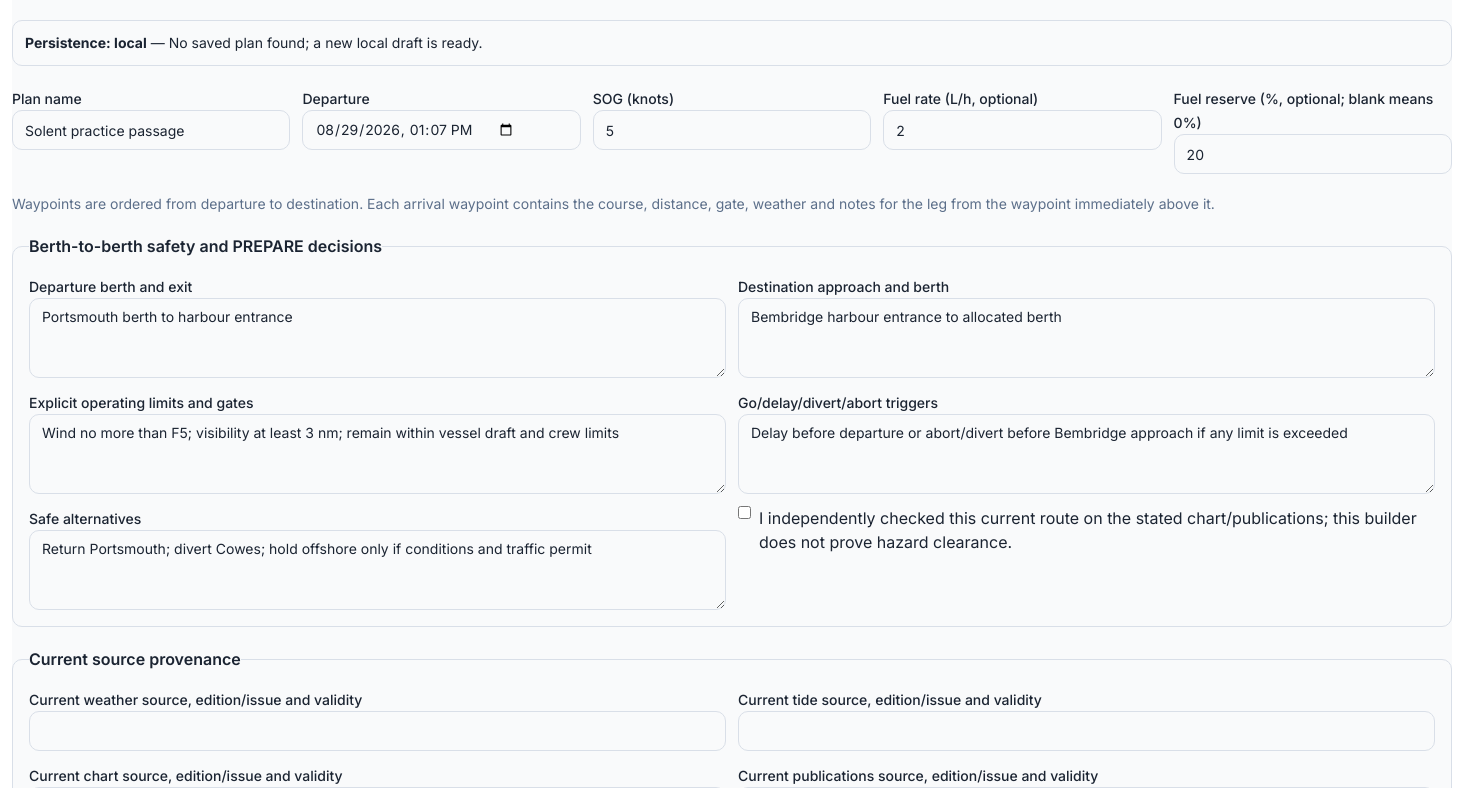
passage plan production persistence contract › serializes rapid remote draft saves and leaves the newest revision authoritative
Step 1. Replace the text in the field labelled "Plan name" with "first" → (151, 130), box [12,110,290,150]
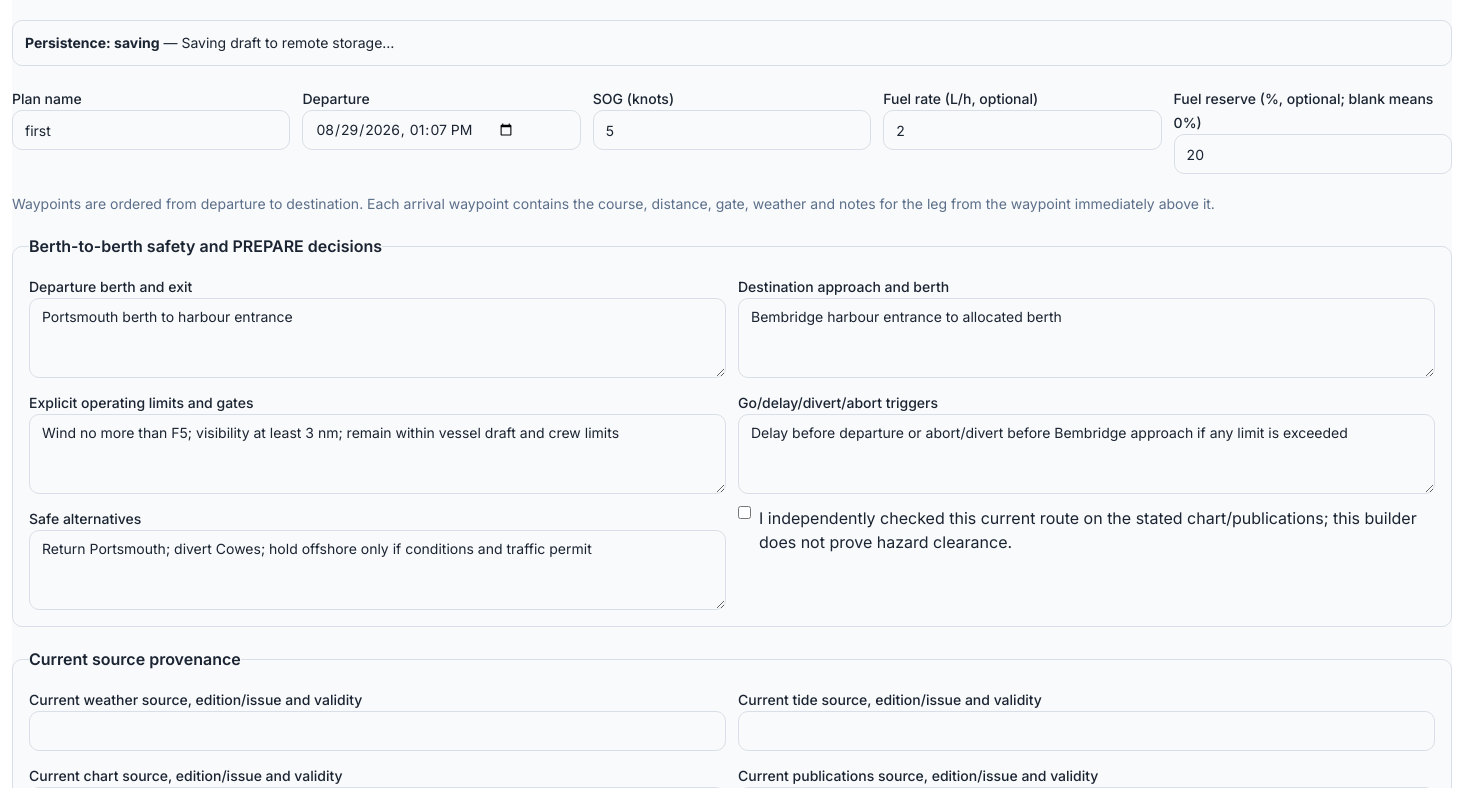
Step 2. Replace the text in the field labelled "Plan name" with "second" → (151, 130), box [12,110,290,150]
(page scrolled)
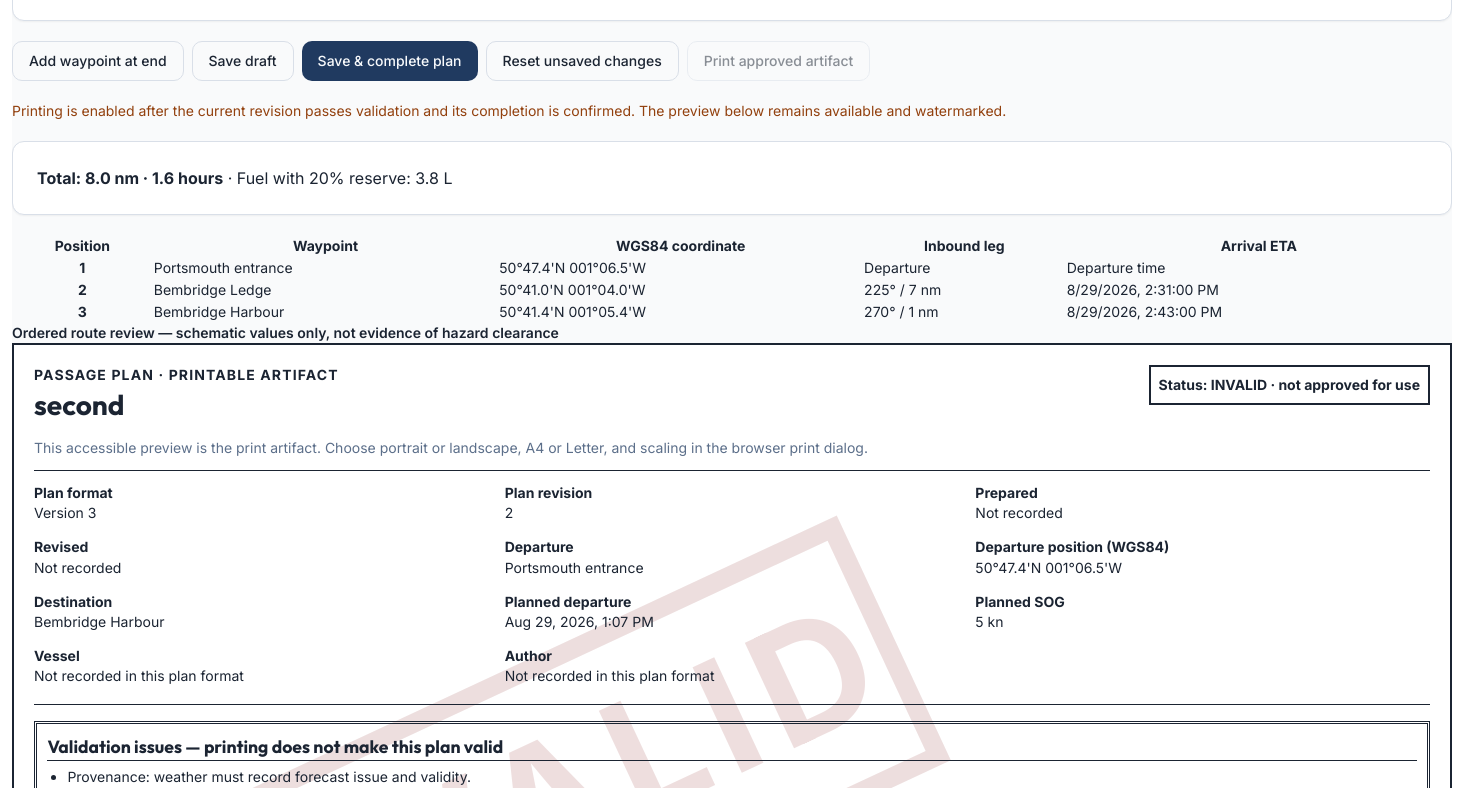
Check: the heading "second" is shown, box [34,387,124,422]
